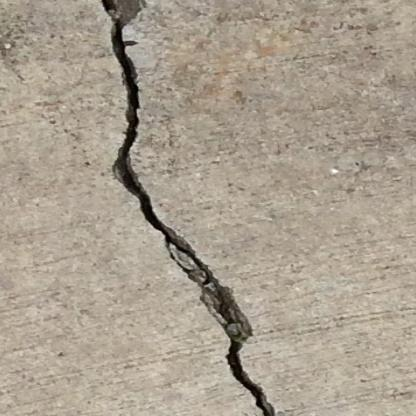Cracks: (92, 0, 290, 416)
